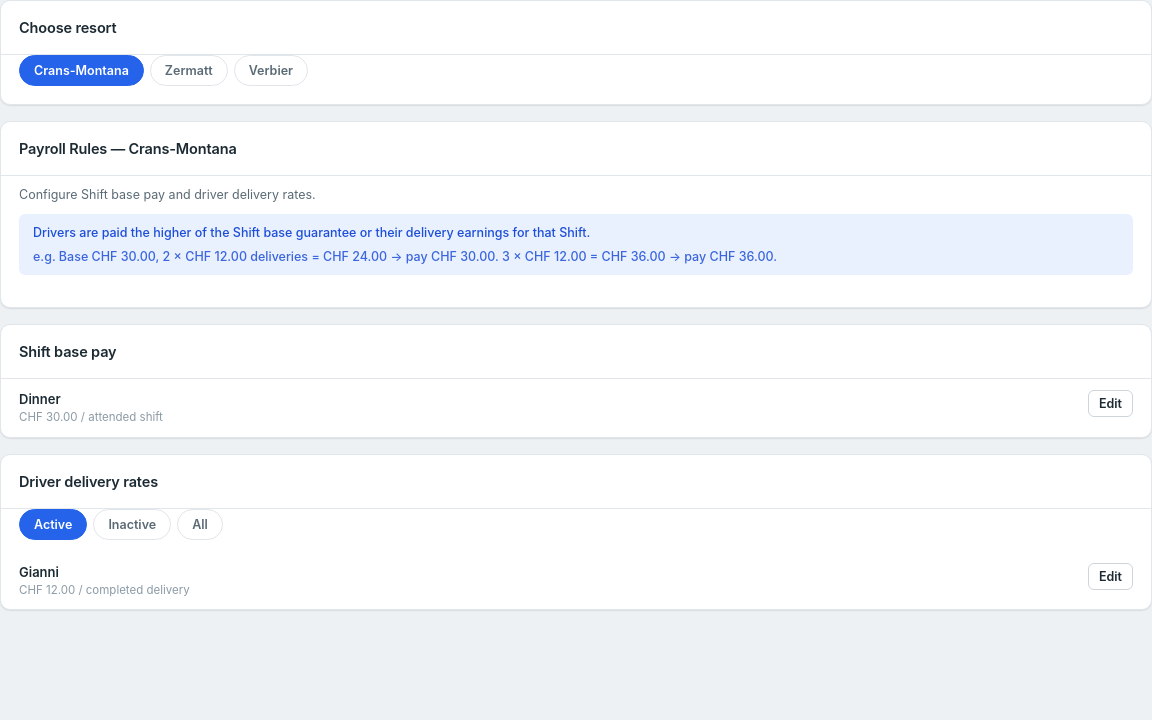
Test case: PayrollRulesPanel: Shift base pay › 13. history is accessible once a rate has genuinely changed (an immediate change closes the old period into real history)
Expected: the text "Dinner" is shown, x1=19 y1=391 x2=60 y2=407
Expected: the button "History" is not shown
Click the button "Edit" in the row of "CHF 30.00 / attended shift": point(1110, 404) x1=1088 y1=390 x2=1133 y2=417
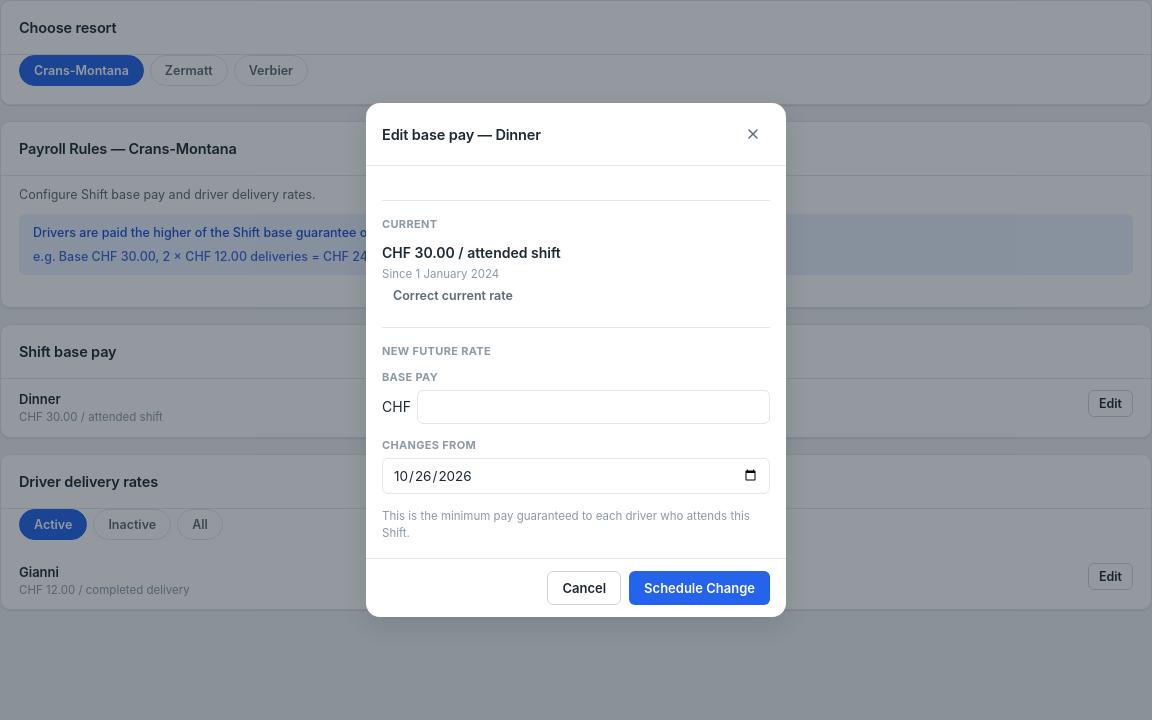
In the number field labelled "Base pay": point(593, 407) x1=417 y1=390 x2=770 y2=424, type "35"
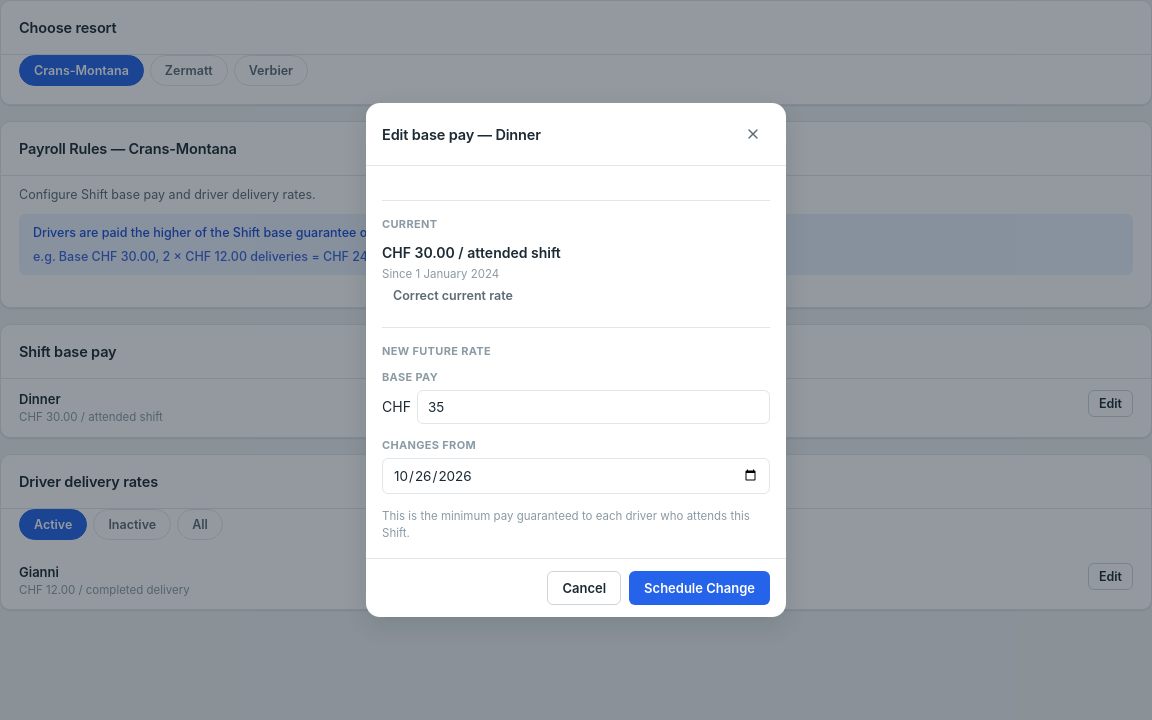
Click the button "Schedule Change": point(700, 588) x1=629 y1=570 x2=770 y2=604
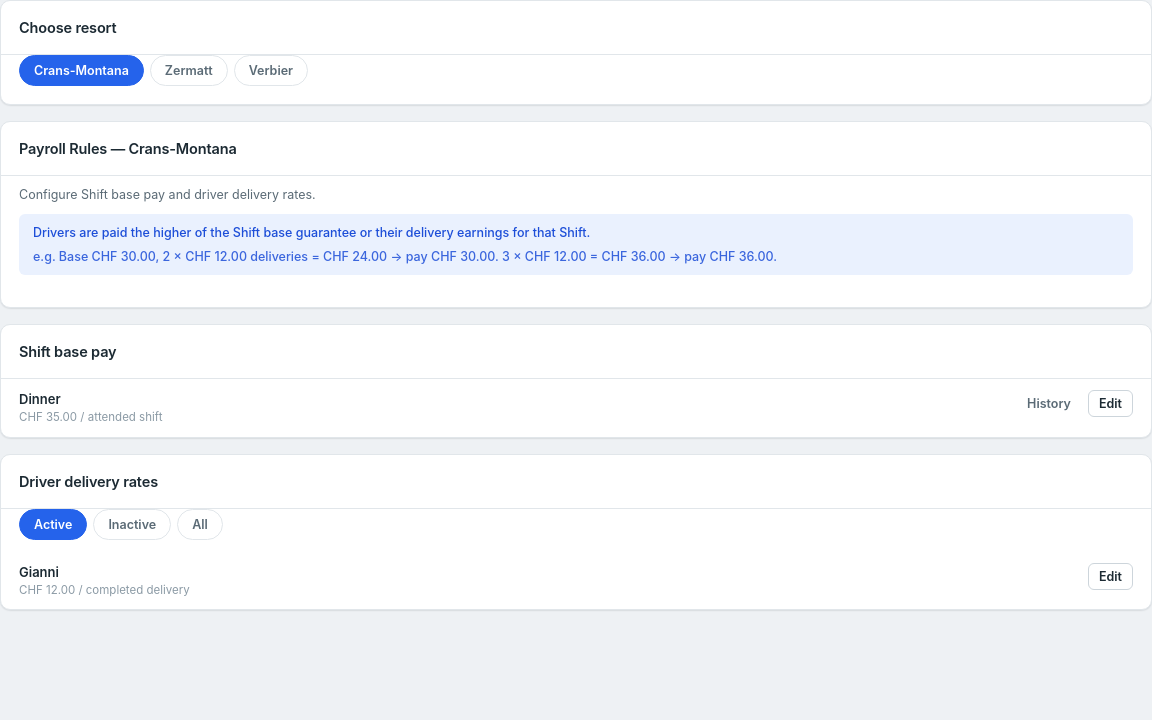
Now the button "History" is shown
Click the button "History": point(1049, 404) x1=1016 y1=390 x2=1082 y2=417
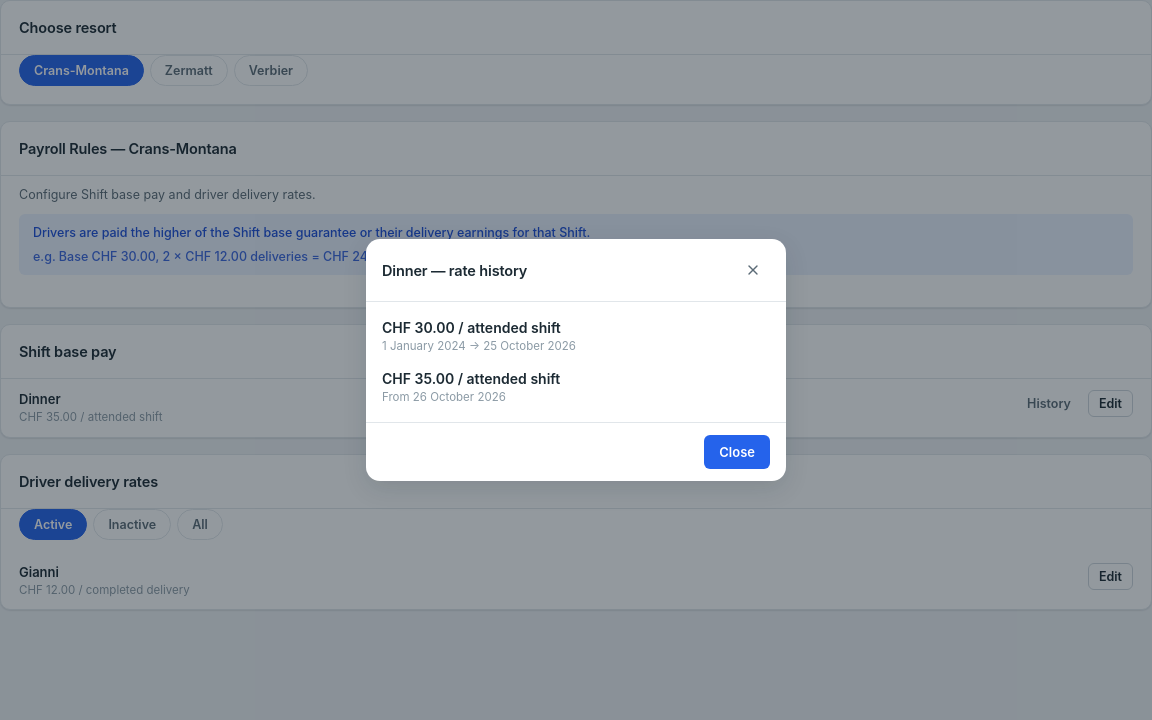
Now the heading "Dinner — rate history" is shown, box x1=382 y1=260 x2=527 y2=280
Now the text "CHF 30.00 / attended shift" is shown, box x1=382 y1=319 x2=561 y2=336
Now the text "CHF 35.00 / attended shift" is shown, box x1=382 y1=370 x2=560 y2=387
